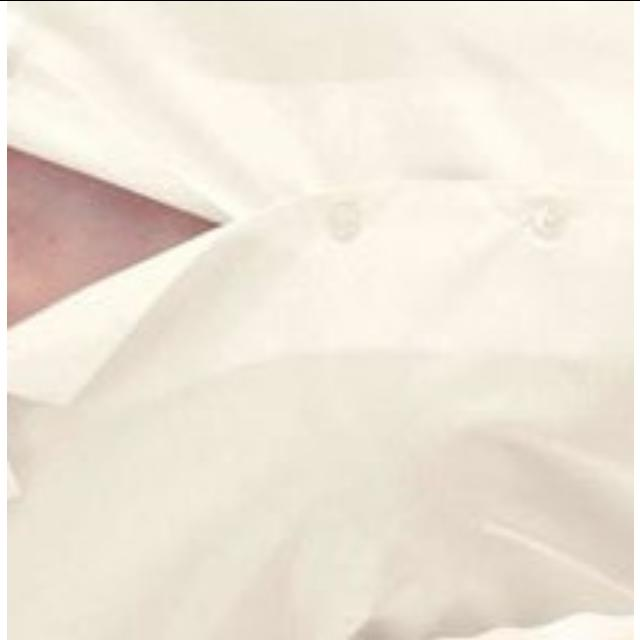polyester: (243, 0, 633, 620)
